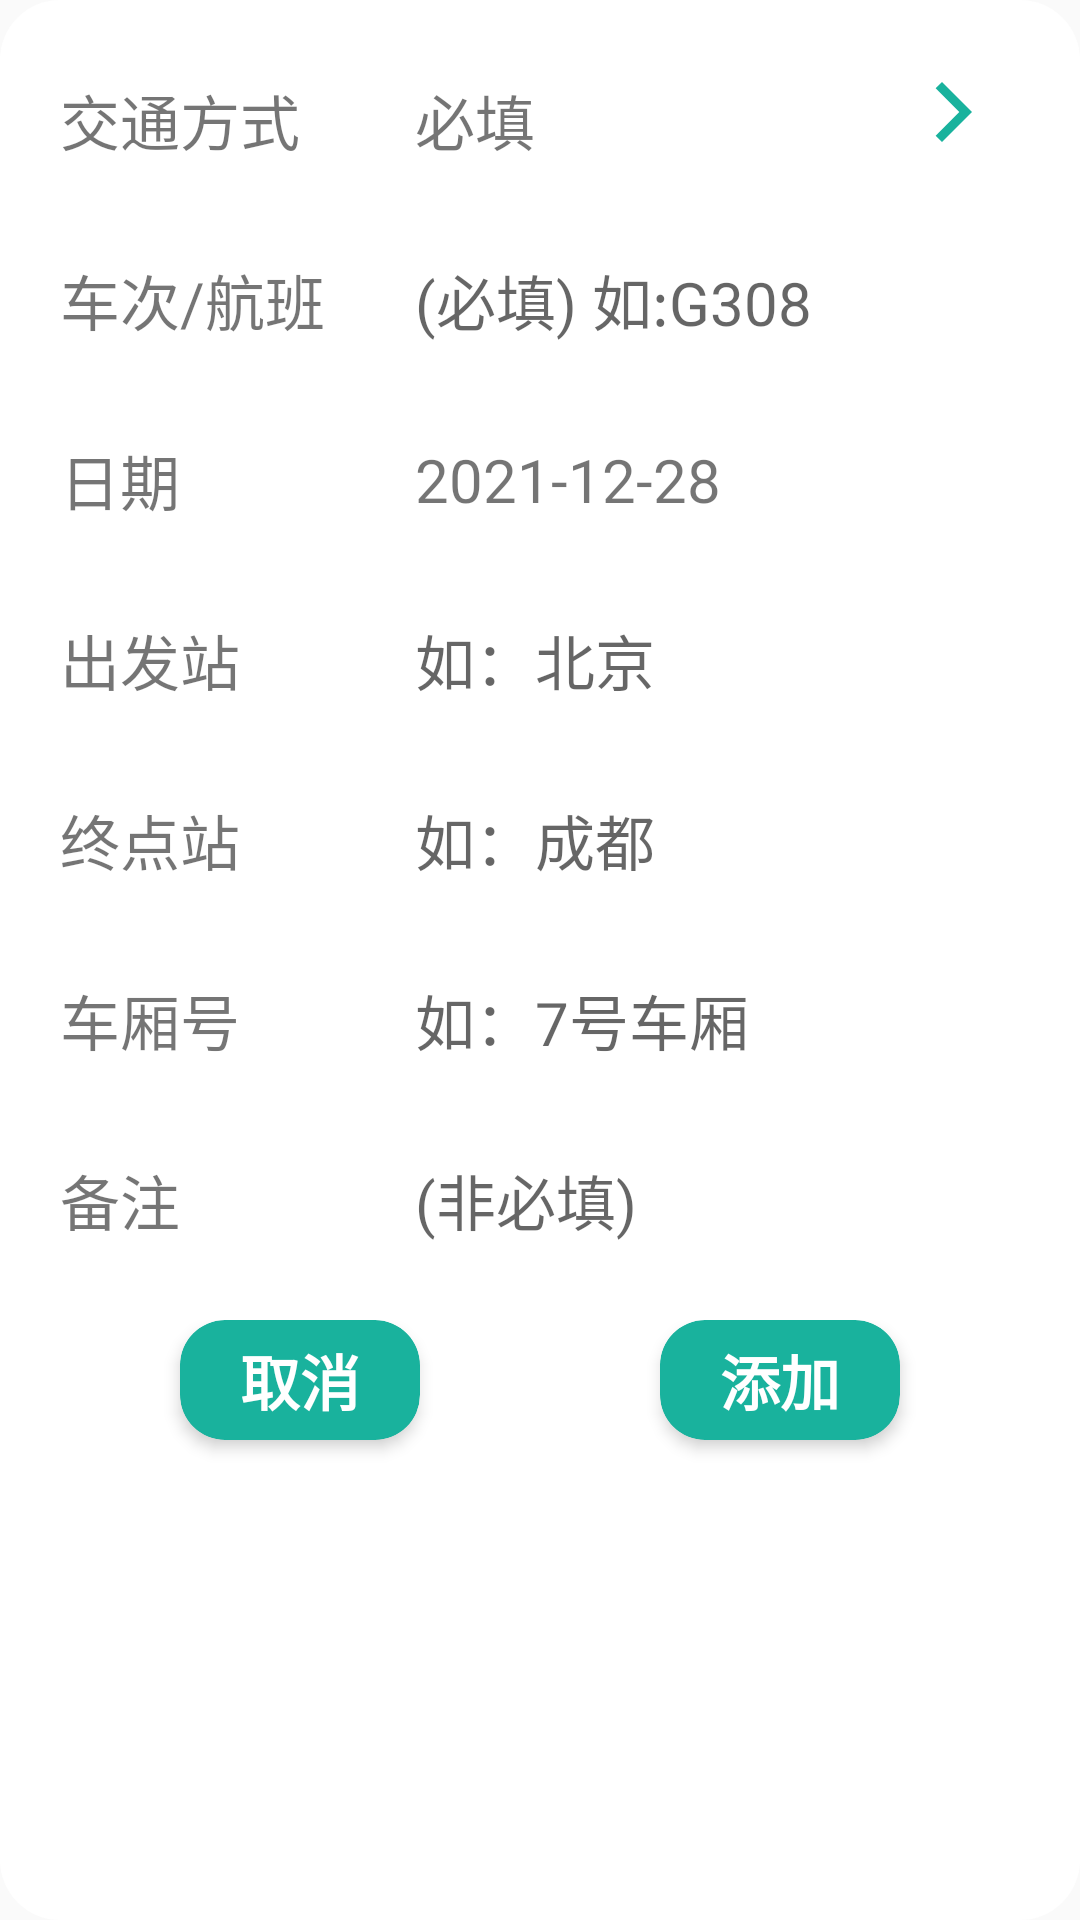

Named icons in this screenshot (1080w x 1920h) and their bounding boxes, [x1, y1, x2, y2]:
arrow forward: [935, 82, 972, 142]
